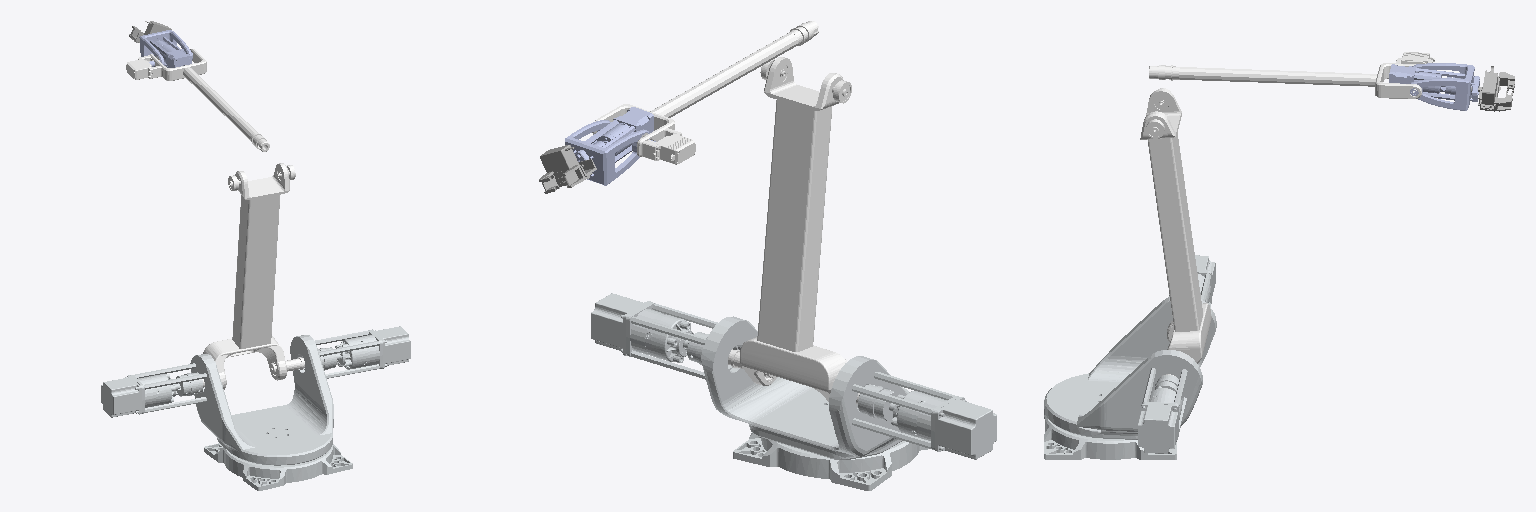
robot.urdf — carmen:
<robot
  name="carmen">
  <link
    name="base_link">
    <inertial>
      <origin
        xyz="-6.93321136613356E-10 6.93716362132335E-10 0.0132471746322021"
        rpy="0 0 0" />
      <mass
        value="1.98561292253725" />
      <inertia
        ixx="0.00601736868309072"
        ixy="2.40683881157455E-11"
        ixz="1.48886272177373E-10"
        iyy="0.00601736846270403"
        iyz="-2.13579318154092E-10"
        izz="0.0117763337865827" />
    </inertial>
    <visual>
      <origin
        xyz="0 0 0"
        rpy="0 0 0" />
      <geometry>
        <mesh
          filename="package://carmen/meshes/base_link.STL" />
      </geometry>
      <material
        name="">
        <color
          rgba="0.898039215686275 0.917647058823529 0.929411764705882 1" />
      </material>
    </visual>
    <collision>
      <origin
        xyz="0 0 0"
        rpy="0 0 0" />
      <geometry>
        <mesh
          filename="package://carmen/meshes/base_link.STL" />
      </geometry>
    </collision>
  </link>
  <link
    name="link1">
    <inertial>
      <origin
        xyz="0.0053340185480945 0.0518962587154645 0.0871112780470915"
        rpy="0 0 0" />
      <mass
        value="3.98917551410872" />
      <inertia
        ixx="0.0204976274869031"
        ixy="-0.00500844158285609"
        ixz="0.000613020862720094"
        iyy="0.0674308285750242"
        iyz="0.0060340332342027"
        izz="0.0736275748962882" />
    </inertial>
    <visual>
      <origin
        xyz="0 0 0"
        rpy="0 0 0" />
      <geometry>
        <mesh
          filename="package://carmen/meshes/link1.STL" />
      </geometry>
      <material
        name="">
        <color
          rgba="0.898039215686275 0.917647058823529 0.929411764705882 1" />
      </material>
    </visual>
    <collision>
      <origin
        xyz="0 0 0"
        rpy="0 0 0" />
      <geometry>
        <mesh
          filename="package://carmen/meshes/link1.STL" />
      </geometry>
    </collision>
  </link>
  <joint
    name="joint1"
    type="continuous">
    <origin
      xyz="0 0 0"
      rpy="4.8302E-16 -1.8339E-30 -2.5751E-14" />
    <parent
      link="base_link" />
    <child
      link="link1" />
    <axis
      xyz="0 0 1" />
  </joint>
  <link
    name="link2">
    <inertial>
      <origin
        xyz="0.0552760005334134 -0.000155134727758161 0.137272101423964"
        rpy="0 0 0" />
      <mass
        value="1.11024651210595" />
      <inertia
        ixx="0.0243933351397536"
        ixy="-0.000272256620854632"
        ixz="0.000845053943793656"
        iyy="0.0258685421603902"
        iyz="-0.00277495204300085"
        izz="0.00272649367991527" />
    </inertial>
    <visual>
      <origin
        xyz="0 0 0"
        rpy="0 0 0" />
      <geometry>
        <mesh
          filename="package://carmen/meshes/link2.STL" />
      </geometry>
      <material
        name="">
        <color
          rgba="1 1 1 1" />
      </material>
    </visual>
    <collision>
      <origin
        xyz="0 0 0"
        rpy="0 0 0" />
      <geometry>
        <mesh
          filename="package://carmen/meshes/link2.STL" />
      </geometry>
    </collision>
  </link>
  <joint
    name="joint2"
    type="revolute">
    <origin
      xyz="-0.053205 0.10614 0.134"
      rpy="-4.9958E-16 -6.3954E-15 -3.7968E-15" />
    <parent
      link="link1" />
    <child
      link="link2" />
    <axis
      xyz="0.99453 -0.10445 0" />
    <limit
      lower="-1"
      upper="1"
      effort="0"
      velocity="0" />
  </joint>
  <link
    name="link3">
    <inertial>
      <origin
        xyz="0.0631275199888618 -0.0638795409644809 0.0506366520557763"
        rpy="0 0 0" />
      <mass
        value="0.861766136459663" />
      <inertia
        ixx="0.00437002005745678"
        ixy="0.000133236316419513"
        ixz="-0.00027427150546927"
        iyy="0.0015426412417731"
        iyz="-0.000204111806241616"
        izz="0.00447537484026787" />
    </inertial>
    <visual>
      <origin
        xyz="0 0 0"
        rpy="0 0 0" />
      <geometry>
        <mesh
          filename="package://carmen/meshes/link3.STL" />
      </geometry>
      <material
        name="">
        <color
          rgba="0.792156862745098 0.819607843137255 0.933333333333333 1" />
      </material>
    </visual>
    <collision>
      <origin
        xyz="0 0 0"
        rpy="0 0 0" />
      <geometry>
        <mesh
          filename="package://carmen/meshes/link3.STL" />
      </geometry>
    </collision>
  </link>
  <joint
    name="joint3"
    type="revolute">
    <origin
      xyz="-0.001749 -0.026227 0.40042"
      rpy="0 6.3954E-15 0" />
    <parent
      link="link2" />
    <child
      link="link3" />
    <axis
      xyz="0.99453 -0.10445 0" />
    <limit
      lower="-1"
      upper="1"
      effort="0"
      velocity="0" />
  </joint>
  <link
    name="link4">
    <inertial>
      <origin
        xyz="0.00163559573831511 0.189653738701388 0.00110555426614034"
        rpy="0 0 0" />
      <mass
        value="0.146288181972114" />
      <inertia
        ixx="0.00360467532988444"
        ixy="-3.49208798074887E-05"
        ixz="3.74348446235837E-06"
        iyy="0.000132730444634105"
        iyz="1.89580984601756E-05"
        izz="0.00372588980342106" />
    </inertial>
    <visual>
      <origin
        xyz="0 0 0"
        rpy="0 0 0" />
      <geometry>
        <mesh
          filename="package://carmen/meshes/link4.STL" />
      </geometry>
      <material
        name="">
        <color
          rgba="1 1 1 1" />
      </material>
    </visual>
    <collision>
      <origin
        xyz="0 0 0"
        rpy="0 0 0" />
      <geometry>
        <mesh
          filename="package://carmen/meshes/link4.STL" />
      </geometry>
    </collision>
  </link>
  <joint
    name="joint4"
    type="continuous">
    <origin
      xyz="0.067501 0.039558 0.068416"
      rpy="0 0 0" />
    <parent
      link="link3" />
    <child
      link="link4" />
    <axis
      xyz="-0.10445 -0.99449 -0.008915" />
  </joint>
  <link
    name="link5">
    <inertial>
      <origin
        xyz="-0.0389289069518734 0.0107114730948043 -0.00180818443937059"
        rpy="0 0 0" />
      <mass
        value="0.467258899920832" />
      <inertia
        ixx="0.000600122116157782"
        ixy="5.15752233141911E-05"
        ixz="-3.66501792464246E-06"
        iyy="0.000142296599259425"
        iyz="-4.12458151535323E-05"
        izz="0.000630999848320722" />
    </inertial>
    <visual>
      <origin
        xyz="0 0 0"
        rpy="0 0 0" />
      <geometry>
        <mesh
          filename="package://carmen/meshes/link5.STL" />
      </geometry>
      <material
        name="">
        <color
          rgba="0.792156862745098 0.819607843137255 0.933333333333333 1" />
      </material>
    </visual>
    <collision>
      <origin
        xyz="0 0 0"
        rpy="0 0 0" />
      <geometry>
        <mesh
          filename="package://carmen/meshes/link5.STL" />
      </geometry>
    </collision>
  </link>
  <joint
    name="joint5"
    type="revolute">
    <origin
      xyz="0.075297 0.33896 0.0043239"
      rpy="0 0 0" />
    <parent
      link="link4" />
    <child
      link="link5" />
    <axis
      xyz="-0.994 0.10468 -0.0316" />
    <limit
      lower="-1.57"
      upper="1.57"
      effort="0"
      velocity="0" />
  </joint>
  <link
    name="link6">
    <inertial>
      <origin
        xyz="0.0111325939791044 0.0139097993780345 0.00206227171785778"
        rpy="0 0 0" />
      <mass
        value="0.0519638203867105" />
      <inertia
        ixx="1.53938757630363E-05"
        ixy="-1.84323445567311E-06"
        ixz="-9.00401083462794E-07"
        iyy="2.0366732164192E-05"
        iyz="-1.85252359384799E-07"
        izz="2.00943933178844E-05" />
    </inertial>
    <visual>
      <origin
        xyz="0 0 0"
        rpy="0 0 0" />
      <geometry>
        <mesh
          filename="package://carmen/meshes/link6.STL" />
      </geometry>
      <material
        name="">
        <color
          rgba="0.752941176470588 0.752941176470588 0.752941176470588 1" />
      </material>
    </visual>
    <collision>
      <origin
        xyz="0 0 0"
        rpy="0 0 0" />
      <geometry>
        <mesh
          filename="package://carmen/meshes/link6.STL" />
      </geometry>
    </collision>
  </link>
  <joint
    name="joint6"
    type="continuous">
    <origin
      xyz="-0.028672 0.10222 -0.0094578"
      rpy="0 0 0" />
    <parent
      link="link5" />
    <child
      link="link6" />
    <axis
      xyz="0.10698 0.9908 -0.082926" />
  </joint>
</robot>

--- Render facts (derived) ---
3 views of the same robot in one strip: view 1: azimuth 30°, elevation 25°; view 2: azimuth 150°, elevation 25°; view 3: azimuth 270°, elevation 25° (orthographic).
Model carmen with 7 links and 6 joints (3 revolute, 3 continuous), rooted at base_link, posed every joint at zero.
Links seen in each view (by area): view 1: link1, link2, base_link, link4, link5; view 2: link1, link2, link4, base_link, link5, link6; view 3: link1, link2, link4, link5, base_link, link6.
Link boxes in pixels (x1,y1,x2,y2): link1: (101, 326, 410, 465); link2: (202, 163, 304, 389); base_link: (204, 430, 352, 490); link4: (126, 49, 269, 151); link5: (139, 30, 192, 67); link1: (591, 293, 996, 459); link2: (728, 57, 859, 403); link4: (592, 21, 818, 164); base_link: (733, 433, 928, 490); link5: (565, 107, 655, 185); link6: (539, 145, 596, 193); link1: (1044, 255, 1216, 453); link2: (1140, 88, 1211, 376); link4: (1149, 52, 1434, 98); link5: (1389, 63, 1479, 110); base_link: (1044, 399, 1176, 459); link6: (1471, 66, 1514, 111).
Size in the robot's own frame: 0.5944 by 0.7113 by 0.6357 metres.
6 mesh visuals loaded from 7 distinct referenced files (6 binary STL); not drawn: 1 (reference not matched to a file when rendering).
